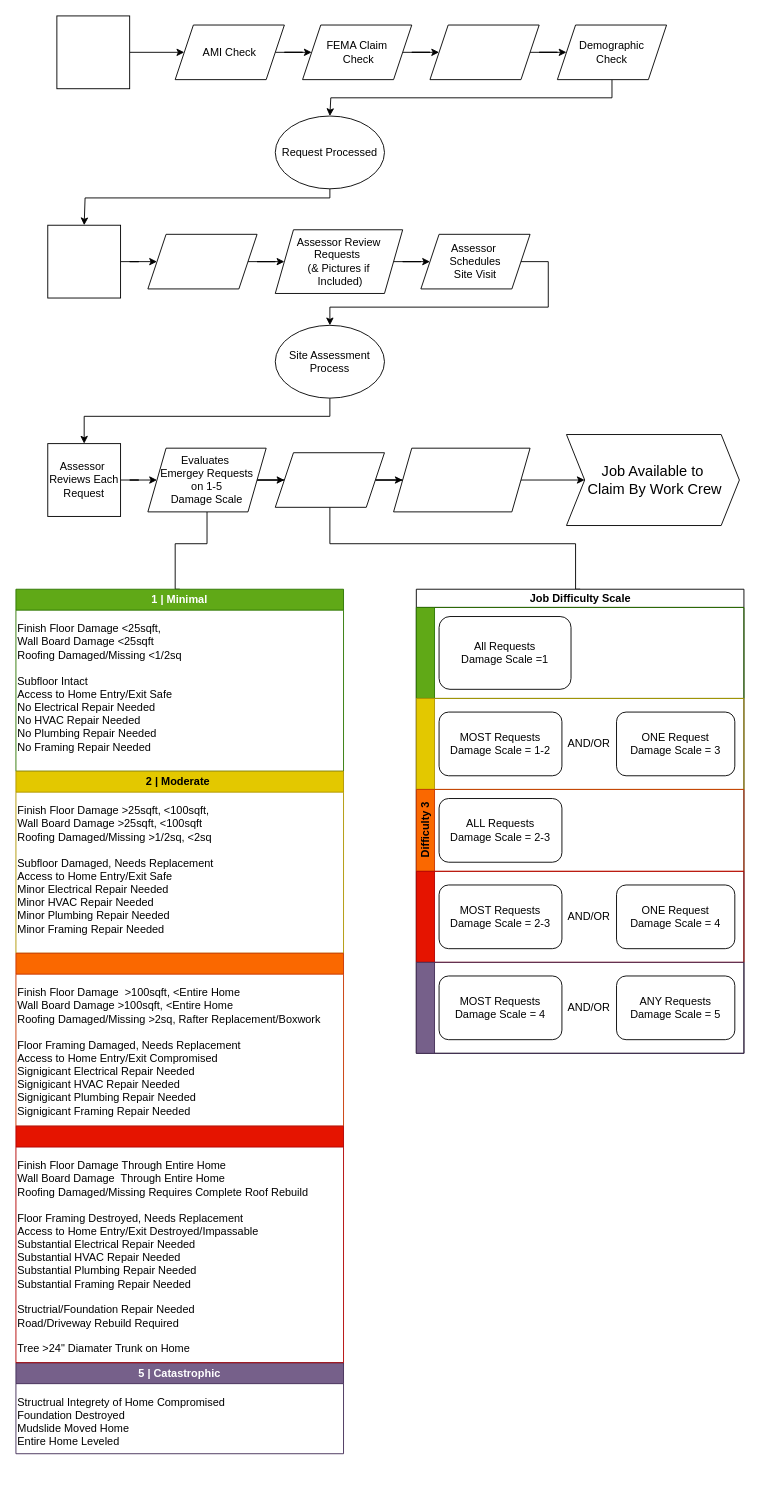
Image size: 760x1488. Some labels were removed from this diagram. The shapes that lost their labels are listed below. From the top down, each one's box as (x1, y1, x2, y2) in pixels, then its label:
(56, 15, 130, 89): Request Comes In
(429, 24, 539, 80): Insurance Claim Check
(47, 224, 121, 298): Job Added to Assessor Map & Unassessed List
(147, 233, 257, 289): Assessor Claims Job
(274, 452, 384, 507): Damage Scale Determines Job Difficulty Level
(393, 447, 530, 512): Assessor Creates Task List from Library
(415, 607, 744, 698): Difficulty 1
(415, 698, 744, 789): Difficulty 2
(415, 870, 744, 962): Difficulty 4
(415, 961, 744, 1053): Difficulty 5
(15, 952, 344, 1126): 3 | Signaficant
(15, 1125, 344, 1363): 4 | Substantial
